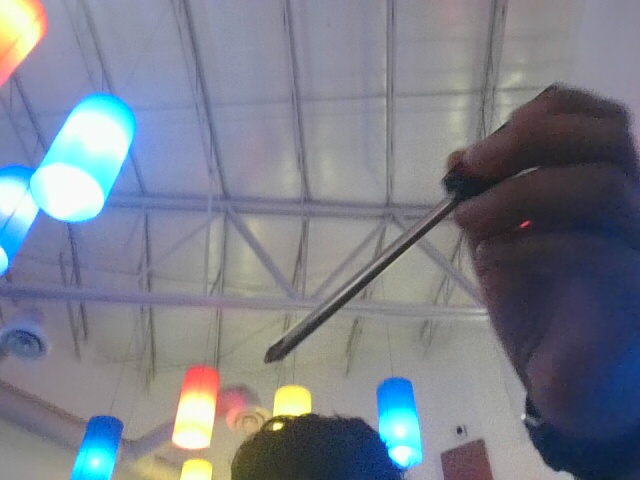destornillador: (264, 95, 553, 361)
